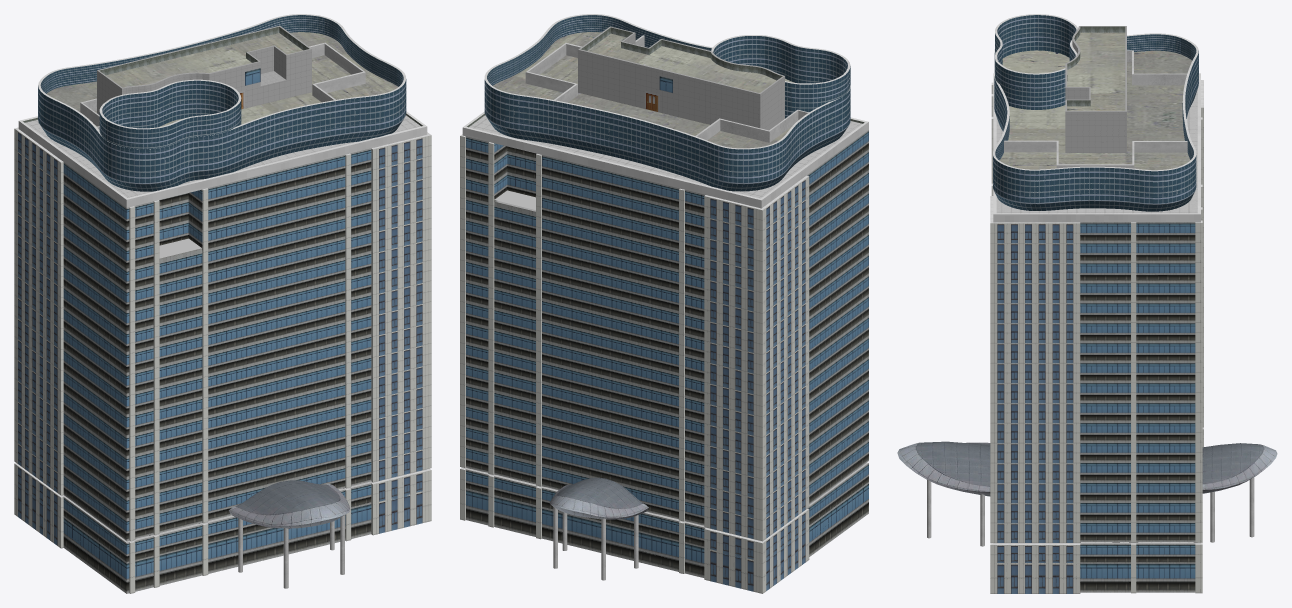
File: All-lou.glb
3 renders of one model, left to right at view 1: azimuth 30°, elevation 25°; view 2: azimuth 150°, elevation 25°; view 3: azimuth 270°, elevation 25°, orthographic. The views are drawn at different scales.
Parts seen in each view (by area): view 1: zt.001; view 2: zt.001; view 3: zt.001.
Part boxes in pixels (box(x1,y1,x2,y2)): zt.001: box(14, 14, 431, 593); zt.001: box(460, 14, 868, 593); zt.001: box(897, 14, 1277, 593).
Size of the model in its own units: 56.65 by 81.89 by 63.47.
Materials: 22 (20 with a texture image).
